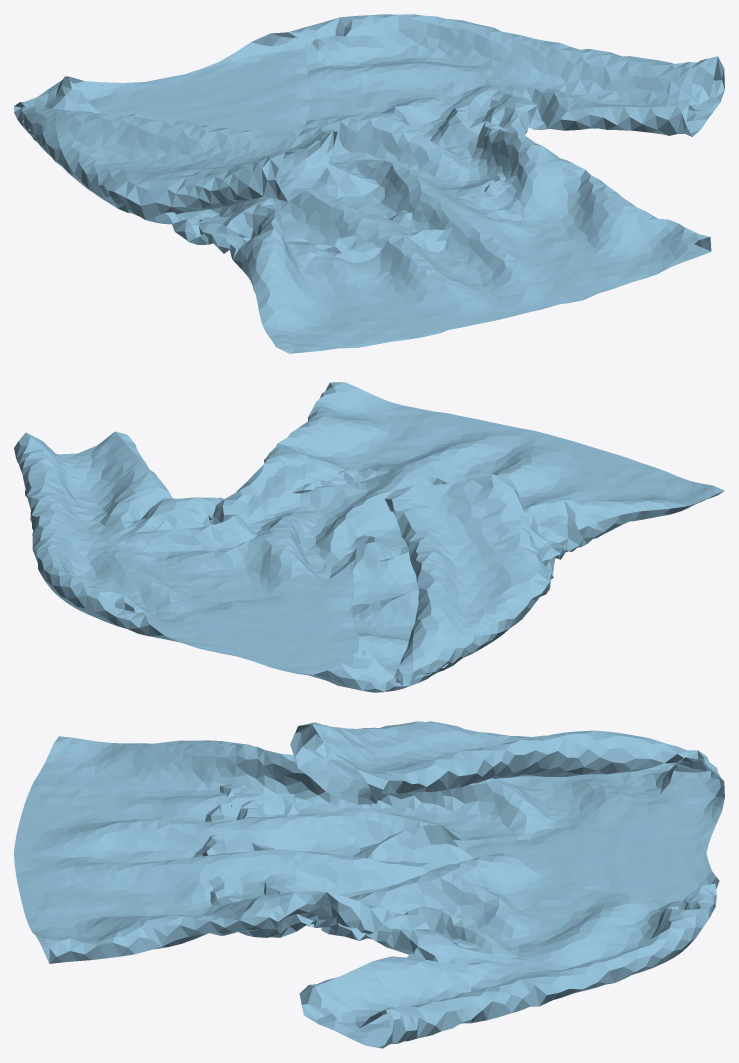
Rendered from frame_18.glb.
3 views of the same model, one above another, from view 1: azimuth 30°, elevation 25°; view 2: azimuth 150°, elevation 25°; view 3: azimuth 270°, elevation 25° (orthographic). The views are drawn at different scales.
Parts seen in each view (by area): view 1: frame_18.obj; view 2: frame_18.obj; view 3: frame_18.obj.
Boxes of the visible parts, left/top/right/bottom form: frame_18.obj: left=14, top=14, right=724, bottom=353; frame_18.obj: left=14, top=382, right=724, bottom=692; frame_18.obj: left=14, top=721, right=724, bottom=1048.
Bounding box in the file's own units: 1.54 × 0.2121 × 1.49.
